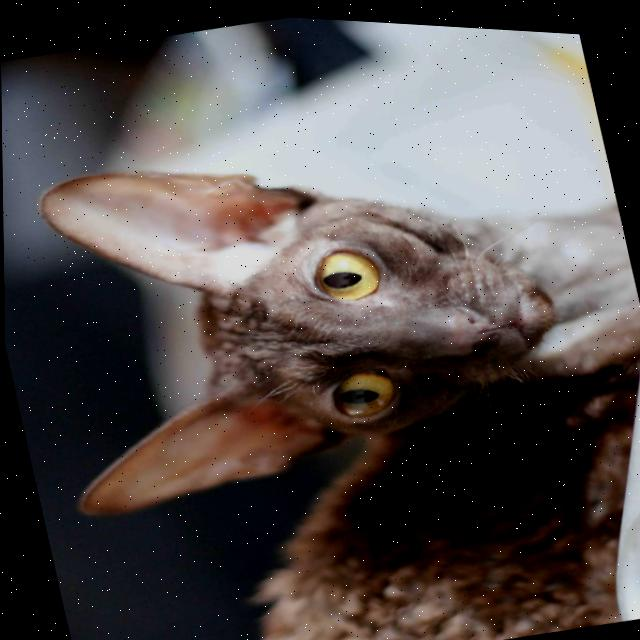Cornish Rex: (1, 56, 640, 640)
